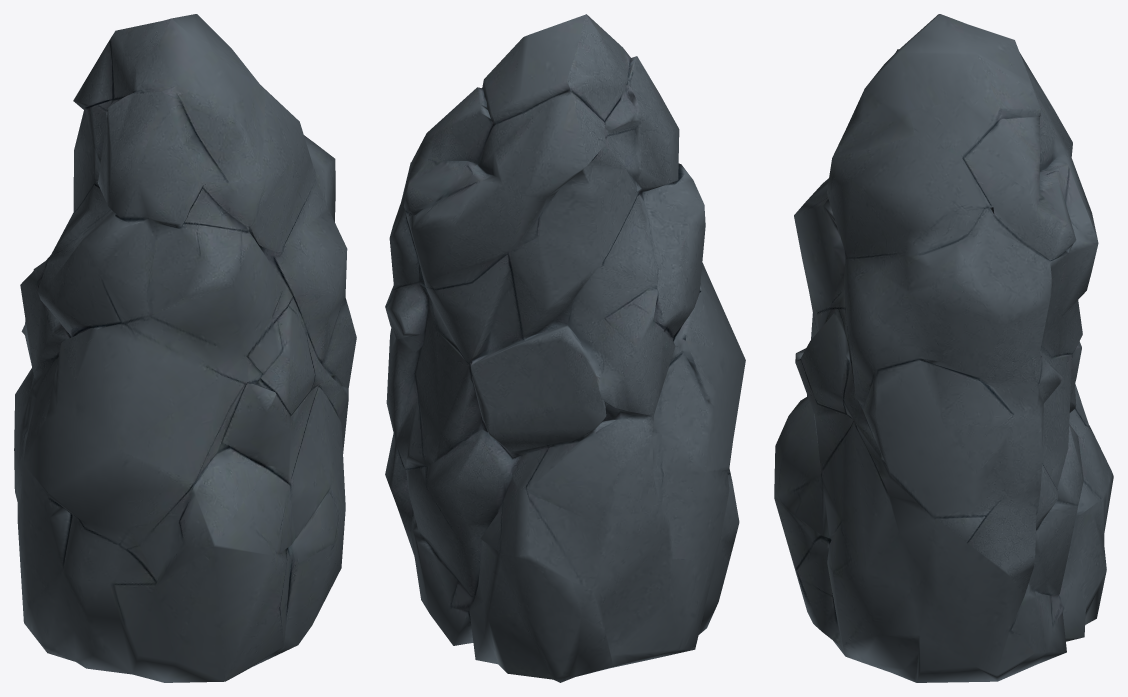
The model's file is rock-b.glb.
3 renders of one model, left to right at view 1: azimuth 30°, elevation 25°; view 2: azimuth 150°, elevation 25°; view 3: azimuth 270°, elevation 25°, orthographic.
Size of the model in its own units: 1.02 by 1.9 by 0.9654.
Materials: 1 (1 with a texture image).
